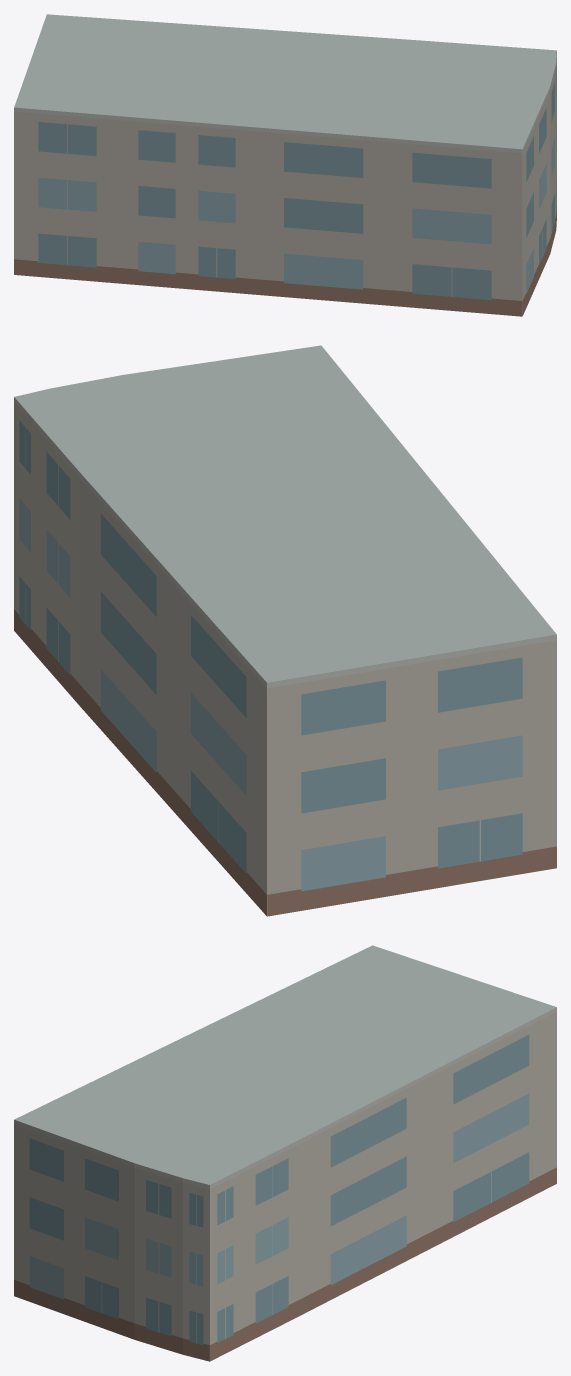
The model's file is survey-upis-32499852.glb.
The picture shows the model from 3 angles, top to bottom: view 1: azimuth 30°, elevation 25°; view 2: azimuth 150°, elevation 25°; view 3: azimuth 270°, elevation 25°; orthographic projection. The views are drawn at different scales.
Parts seen in each view (by area): view 1: survey-upis-32499852.tmp; view 2: survey-upis-32499852.tmp; view 3: survey-upis-32499852.tmp.
Part boxes in pixels (left/top/right/bottom): survey-upis-32499852.tmp: left=14, top=14, right=556, bottom=316; survey-upis-32499852.tmp: left=14, top=345, right=556, bottom=916; survey-upis-32499852.tmp: left=14, top=945, right=556, bottom=1361.
Bounding box in the file's own units: 29.42 × 10.1 × 28.15.
